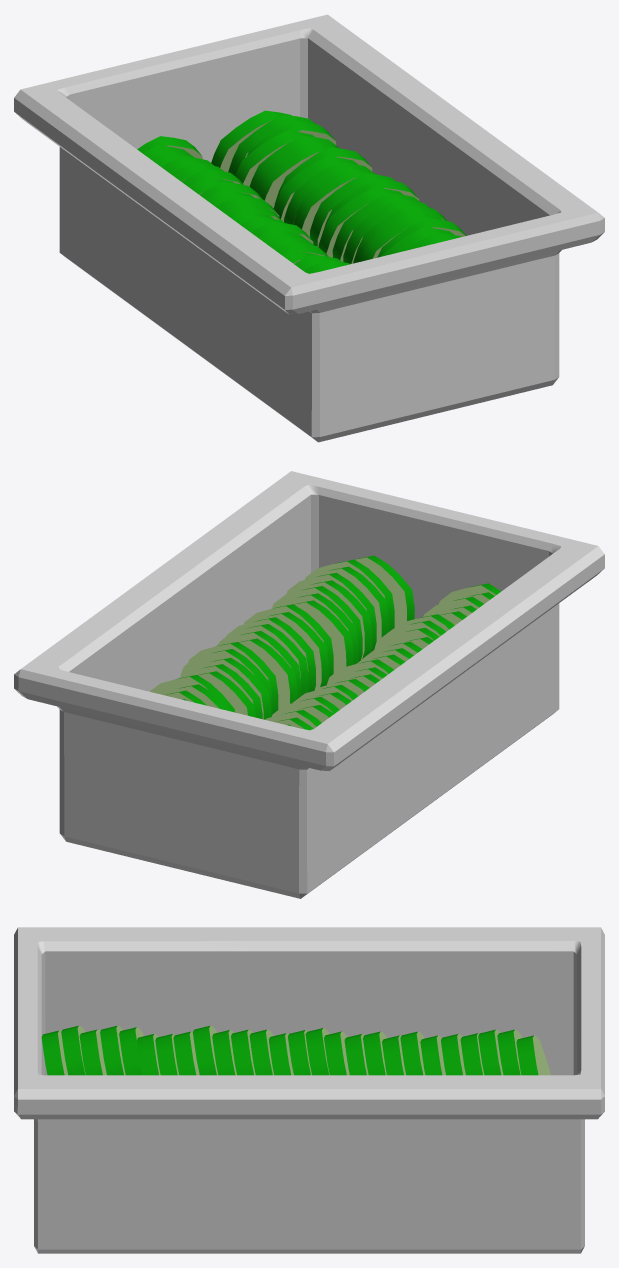
The model's file is hotelPanPickle.fbx.
3 views of the same model, one above another, from view 1: azimuth 30°, elevation 25°; view 2: azimuth 150°, elevation 25°; view 3: azimuth 270°, elevation 25° (orthographic). The views are drawn at different scales.
Visible parts, largest first — view 1: hotelPanPickle; view 2: hotelPanPickle; view 3: hotelPanPickle.
Boxes of the visible parts, x1,y1,x2,y2 form: hotelPanPickle: (14, 14, 604, 442); hotelPanPickle: (14, 471, 604, 898); hotelPanPickle: (14, 927, 604, 1253).
Size of the model in its own units: 16.5 by 8.4 by 24.5.
